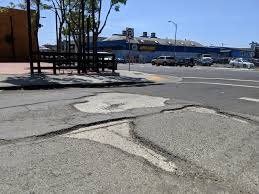pothole: (67, 116, 184, 177), (67, 88, 169, 113), (175, 99, 254, 124)
